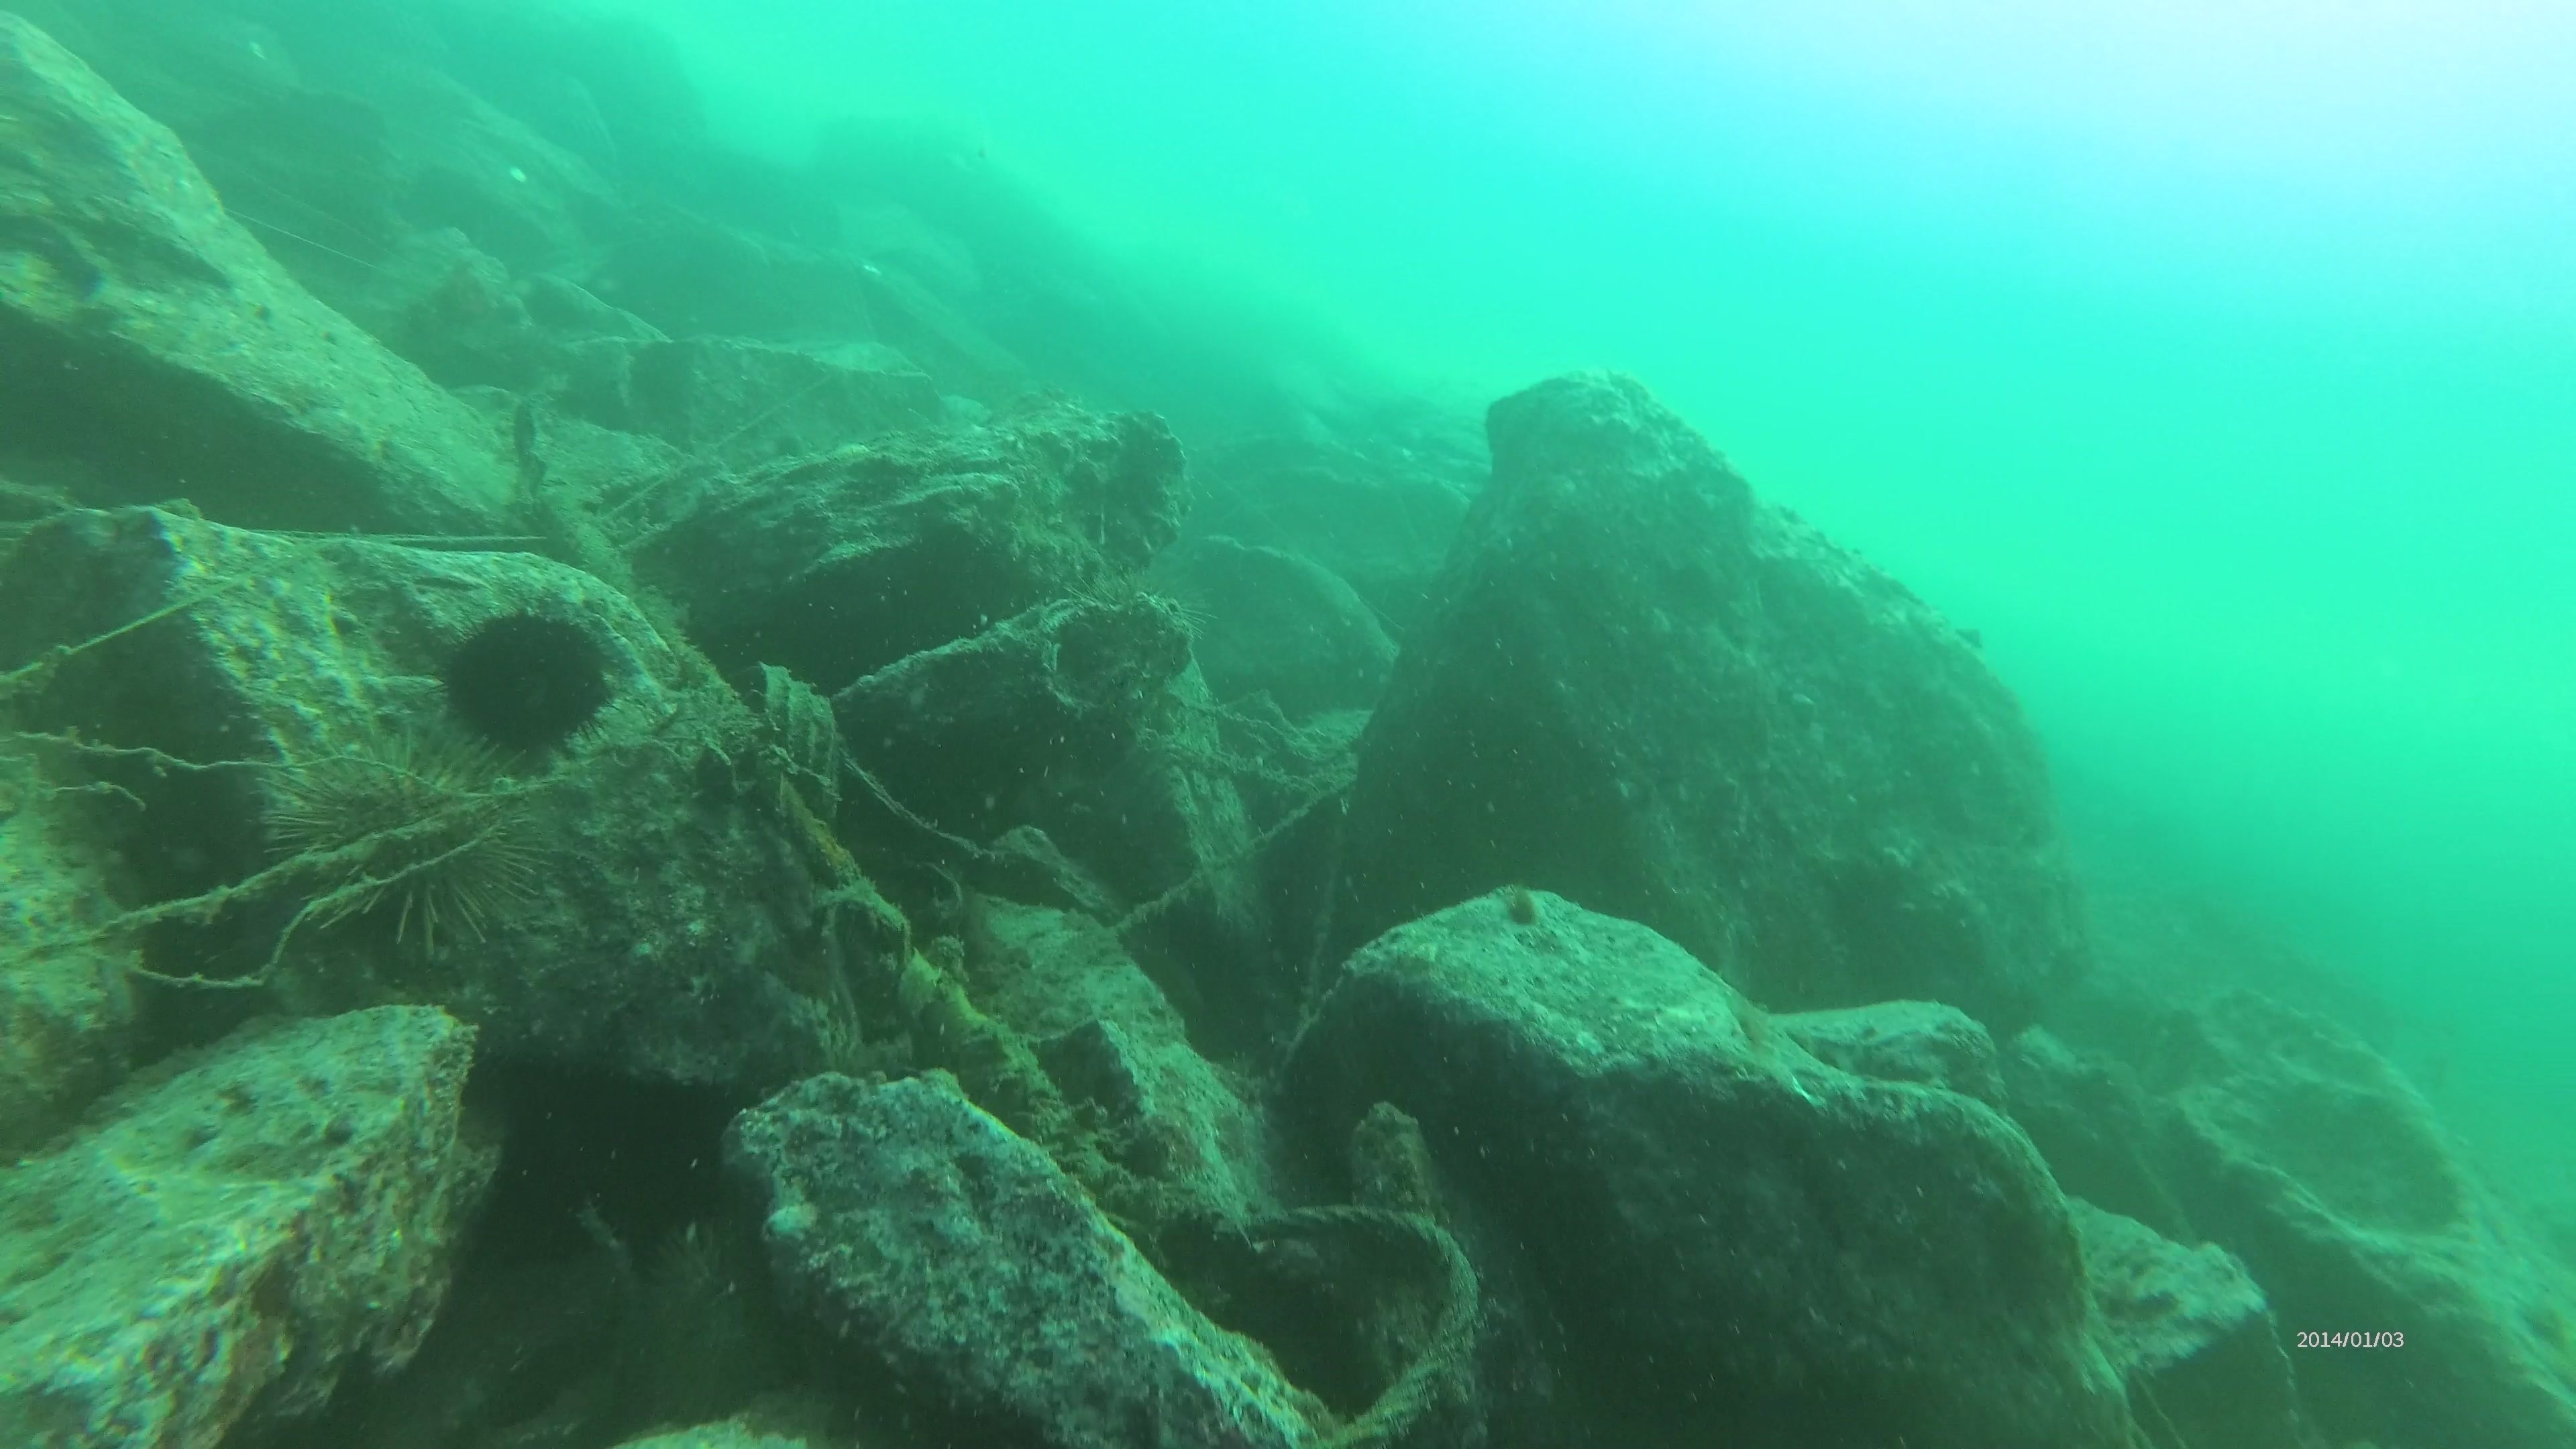echinus: (272, 732, 550, 970), (432, 596, 623, 768), (630, 1210, 809, 1375)
